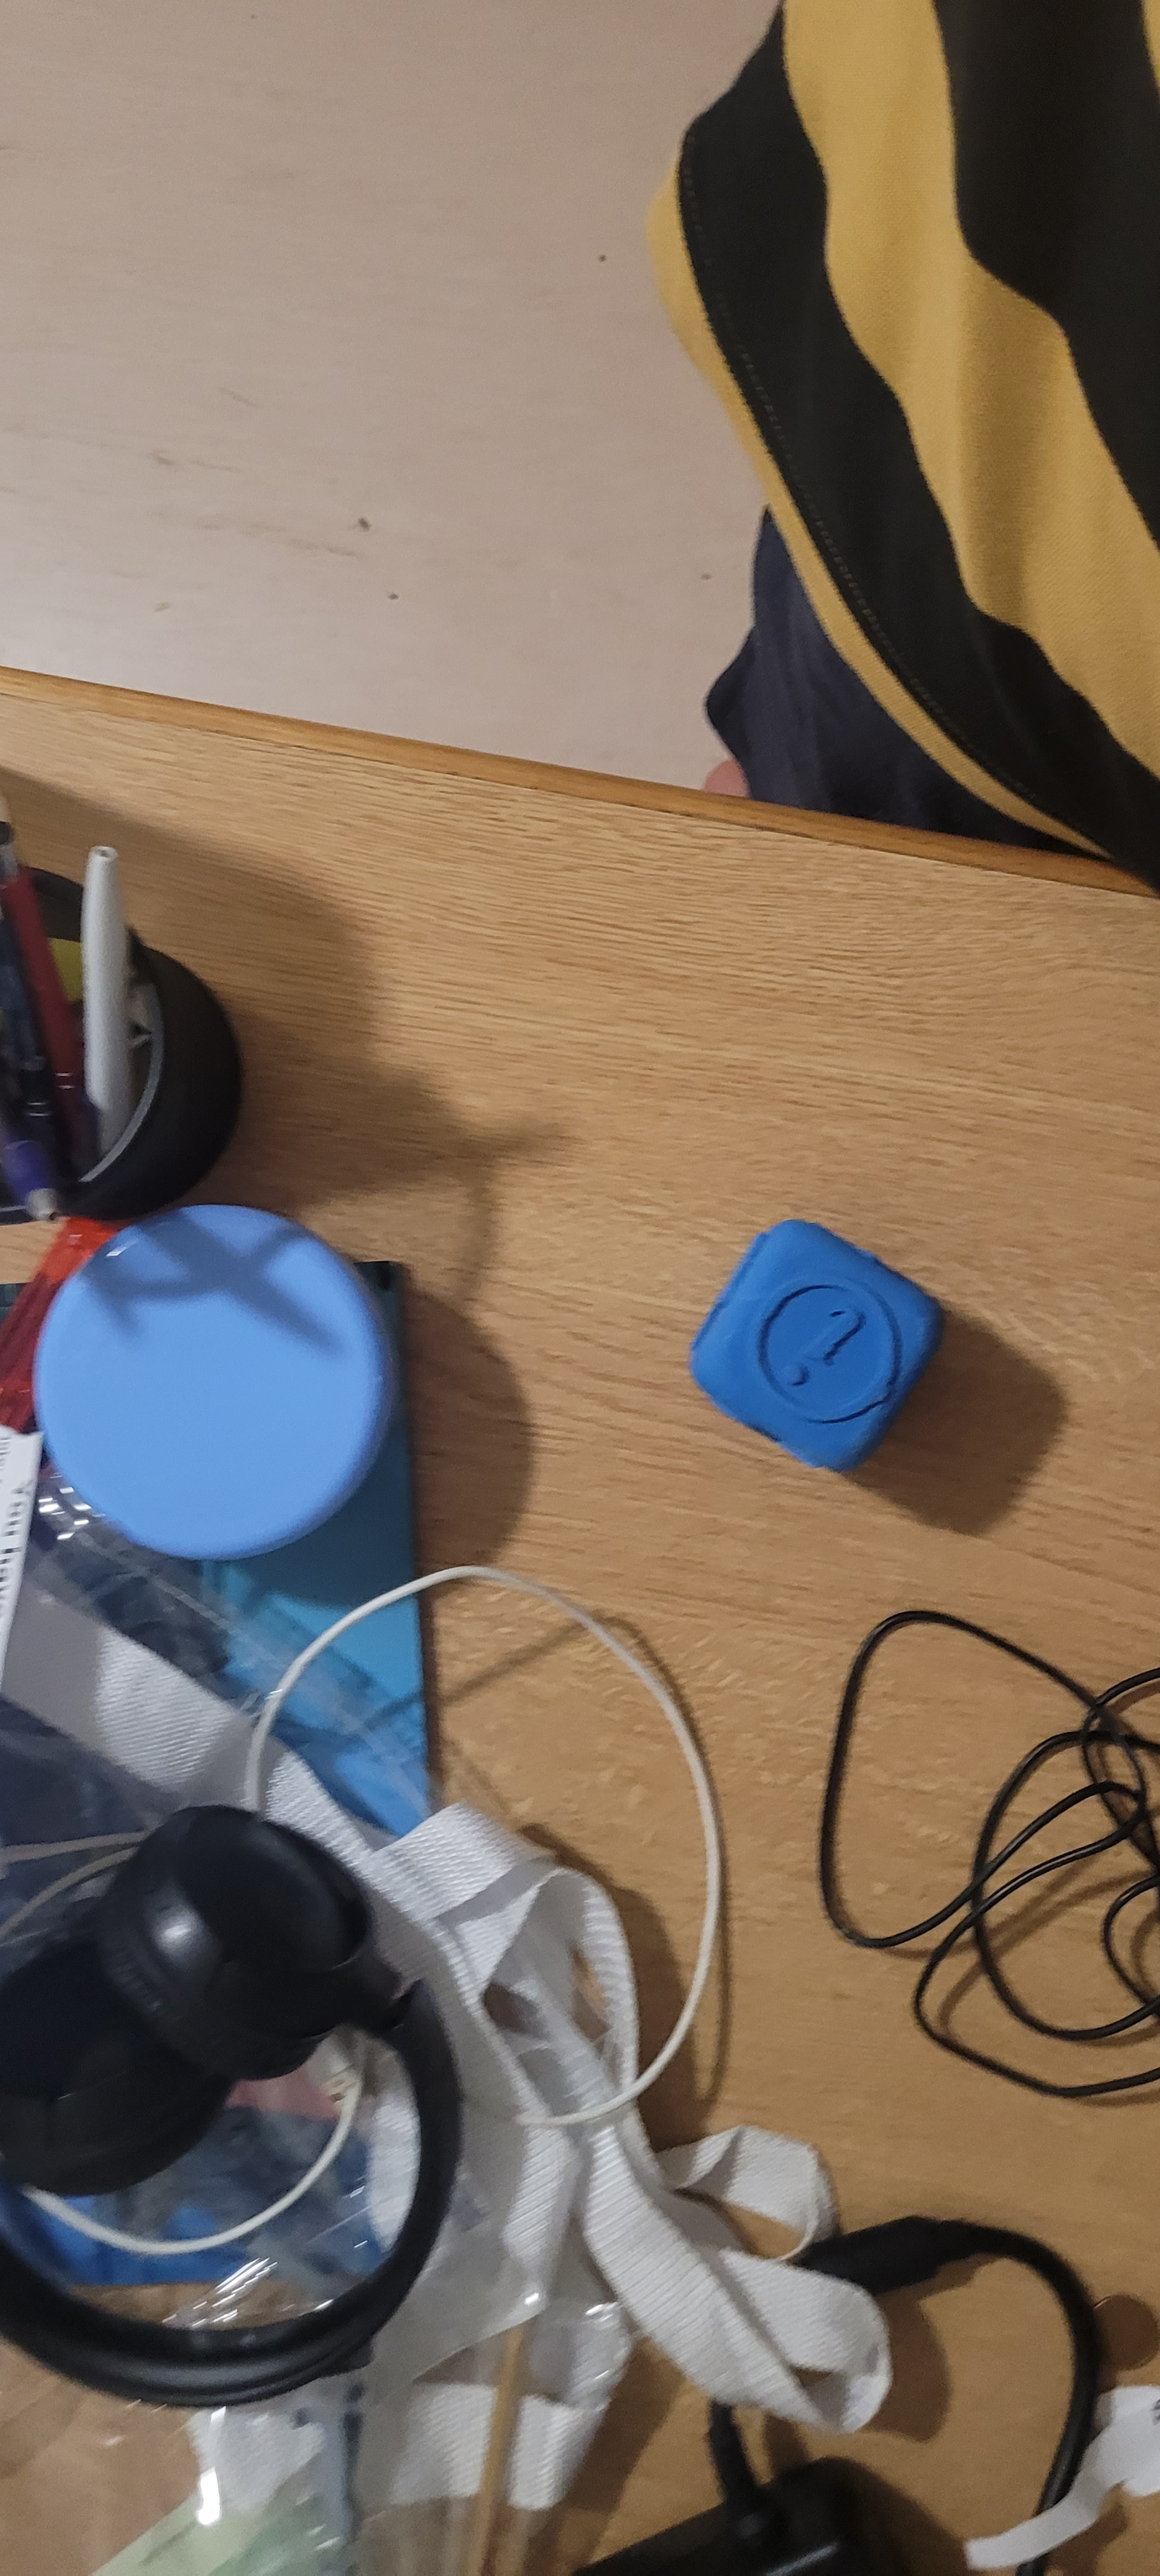Info: (748, 1235, 923, 1437)
